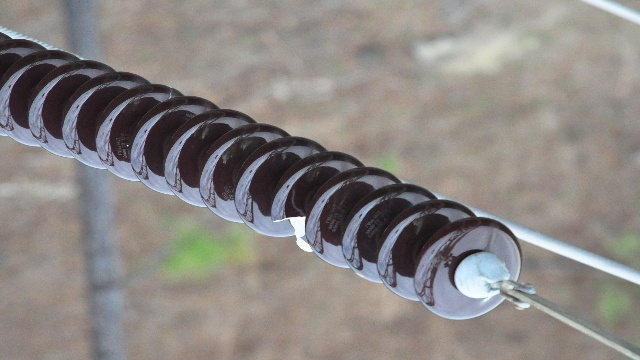broken_local: (272, 214, 316, 253)
insulator_unspecified: (0, 31, 522, 320)
